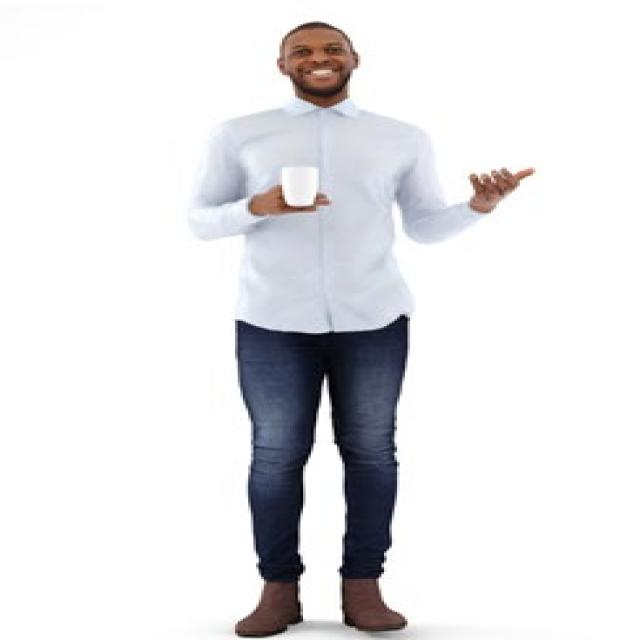standing: (189, 18, 549, 640)
